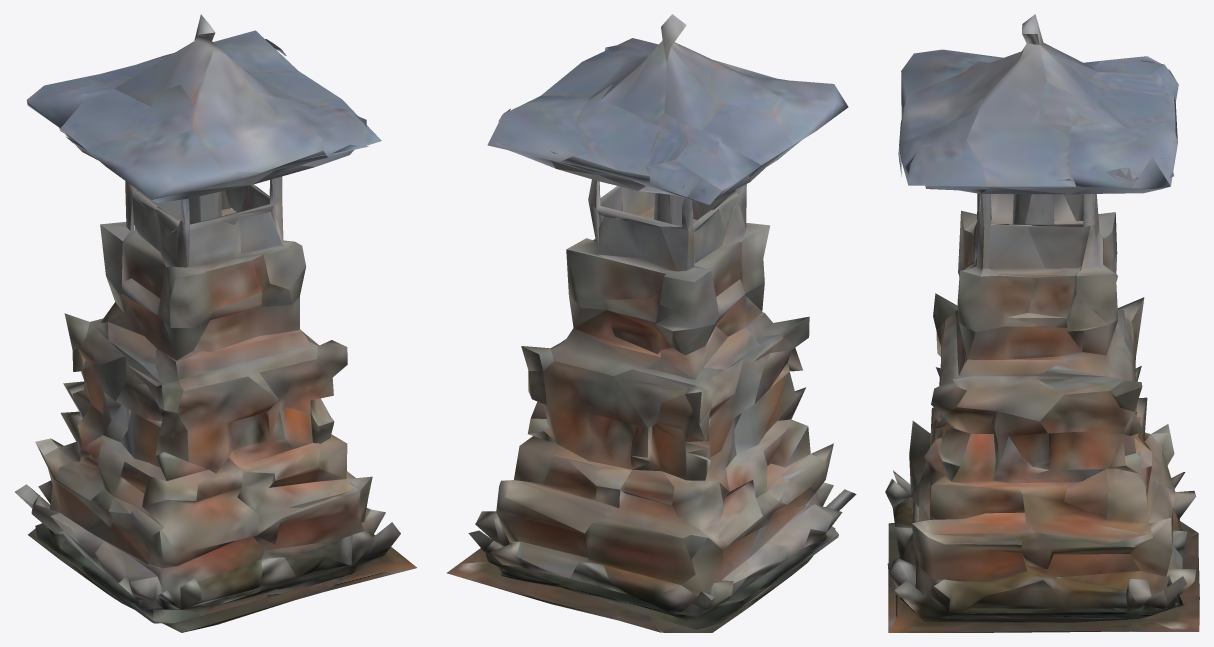
The model's file is pura_westin_lod2.glb.
3 views of the same model, side by side, from view 1: azimuth 30°, elevation 25°; view 2: azimuth 150°, elevation 25°; view 3: azimuth 270°, elevation 25° (orthographic).
Visible parts, largest first — view 1: tripo_node_77ff8a4a-2d0c-4f22-ac7f-2474adb442f7; view 2: tripo_node_77ff8a4a-2d0c-4f22-ac7f-2474adb442f7; view 3: tripo_node_77ff8a4a-2d0c-4f22-ac7f-2474adb442f7.
Boxes of the visible parts, x1,y1,x2,y2 form: tripo_node_77ff8a4a-2d0c-4f22-ac7f-2474adb442f7: [15, 14, 416, 632]; tripo_node_77ff8a4a-2d0c-4f22-ac7f-2474adb442f7: [446, 14, 856, 632]; tripo_node_77ff8a4a-2d0c-4f22-ac7f-2474adb442f7: [885, 14, 1199, 632].
Bounding box in the file's own units: 0.5054 × 0.9962 × 0.5103.
1 material, 1 textured.
